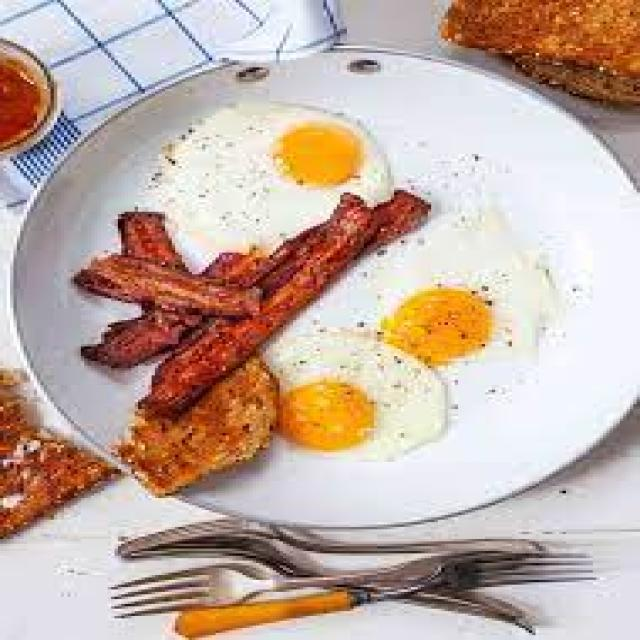Bacon: (138, 191, 424, 416), (73, 259, 260, 316), (81, 309, 203, 367), (122, 214, 185, 271)
Bread: (444, 0, 639, 103)
Egg: (154, 105, 389, 261), (266, 328, 441, 459), (381, 231, 548, 366)
